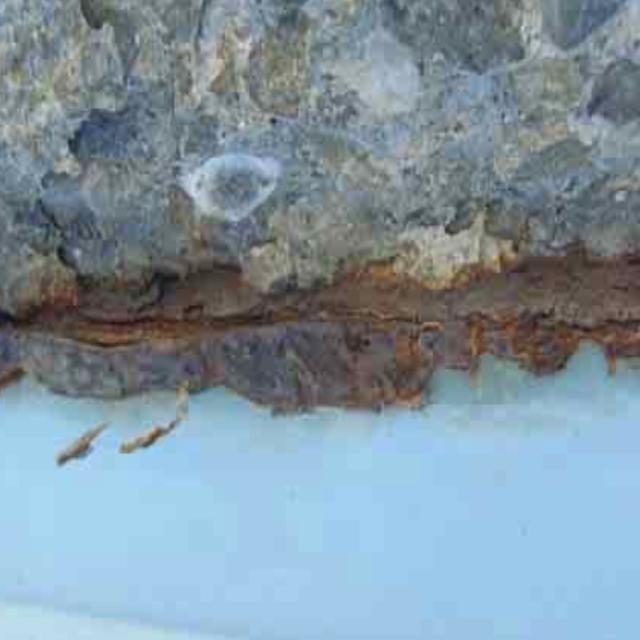corrosion: (7, 232, 640, 417)
